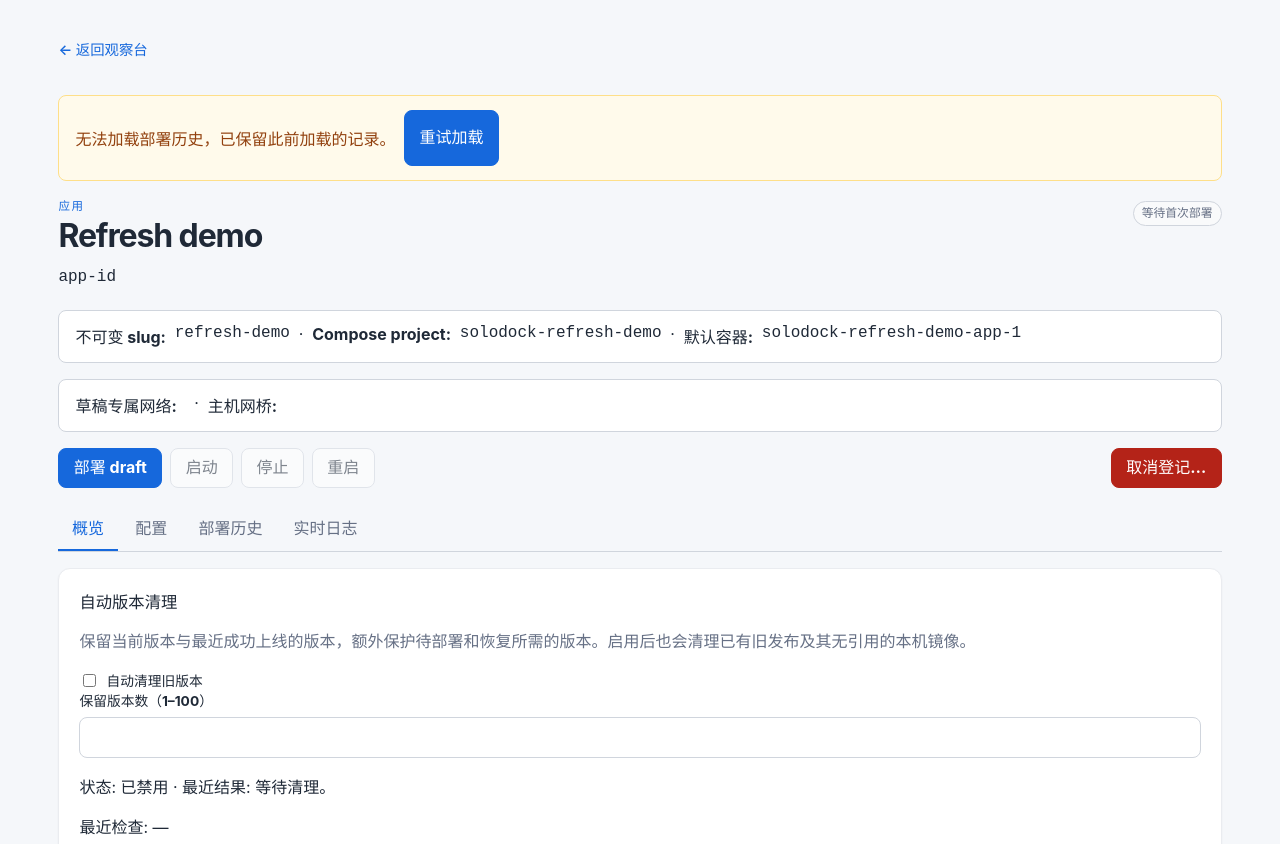
Test: app detail refresh and loading recovery › clears a stale webhook panel and warning when a retry reports disabled webhooks
Click the button "配置".
click(151, 530)  # box [122, 508, 181, 551]
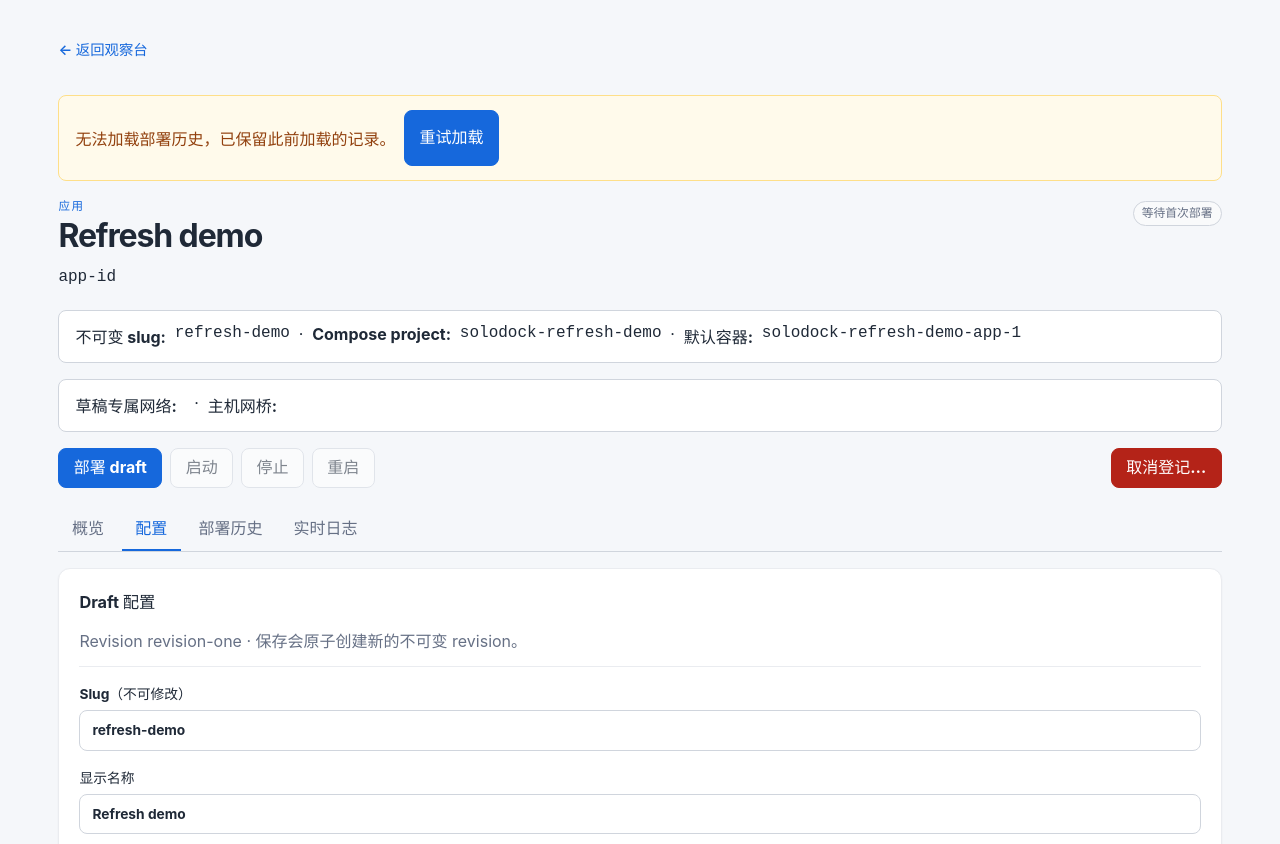
Click the button "重试加载".
click(452, 138)  # box [404, 110, 499, 166]
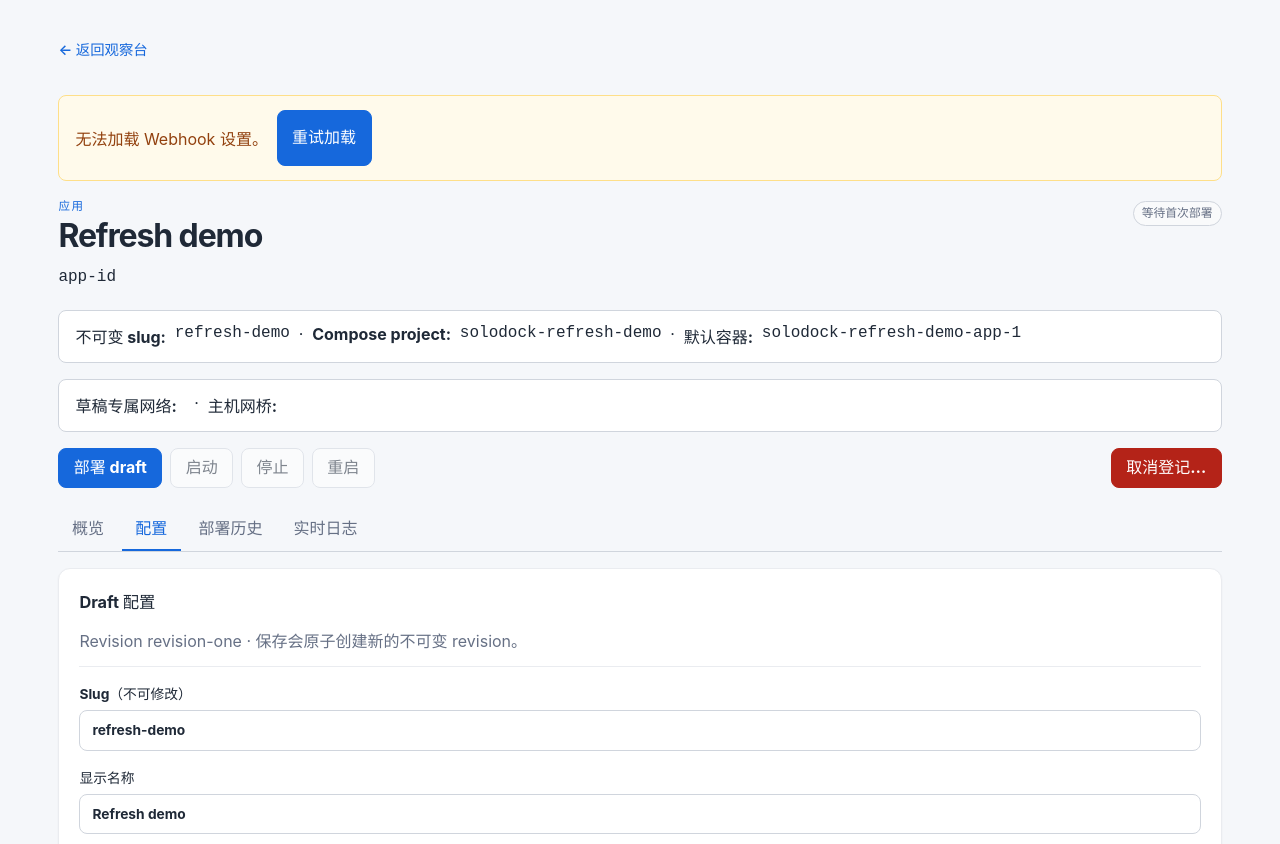
expect the text "无法加载 Webhook 设置。" is shown: met, box [75, 126, 268, 150]
Click the button "重试加载".
click(324, 138)  # box [277, 110, 372, 166]
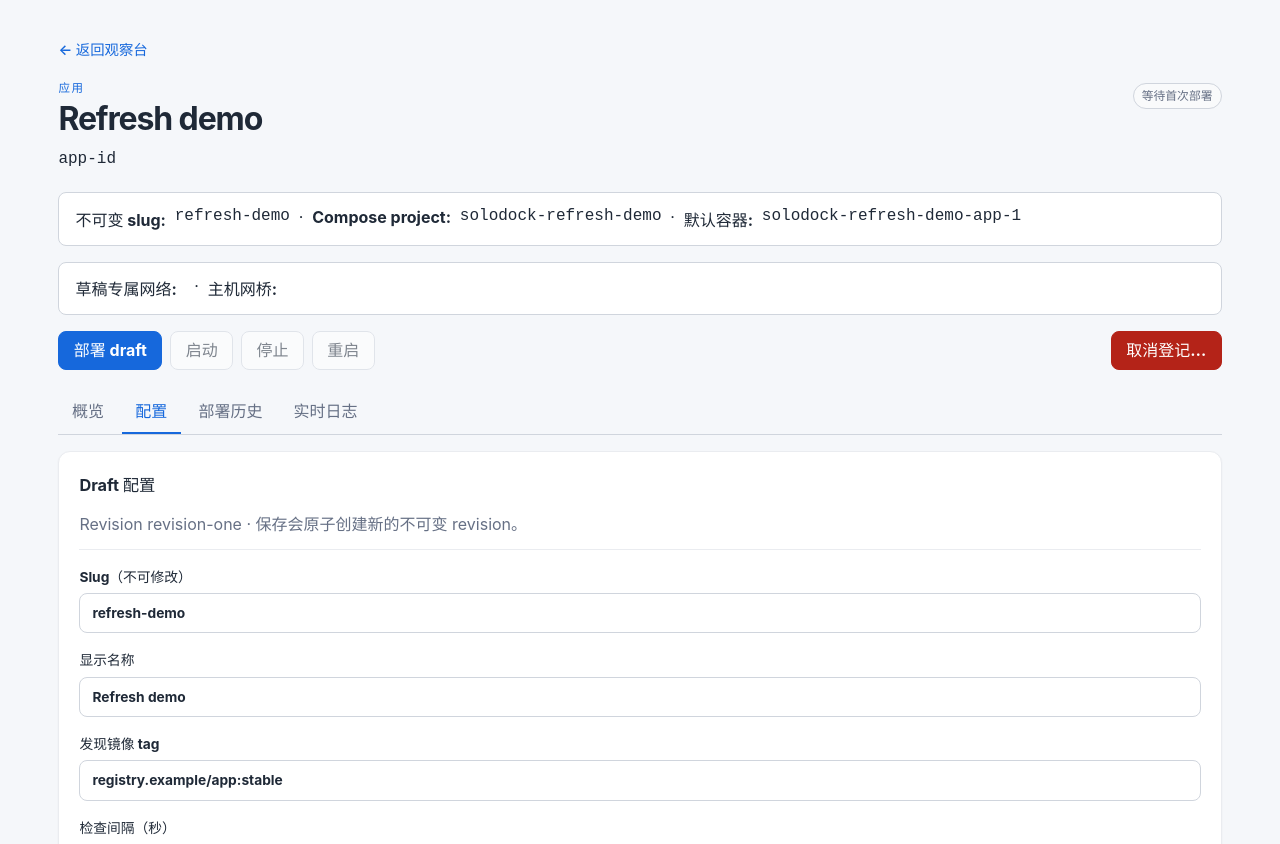
expect the text "无法加载 Webhook 设置。" is gone: met
